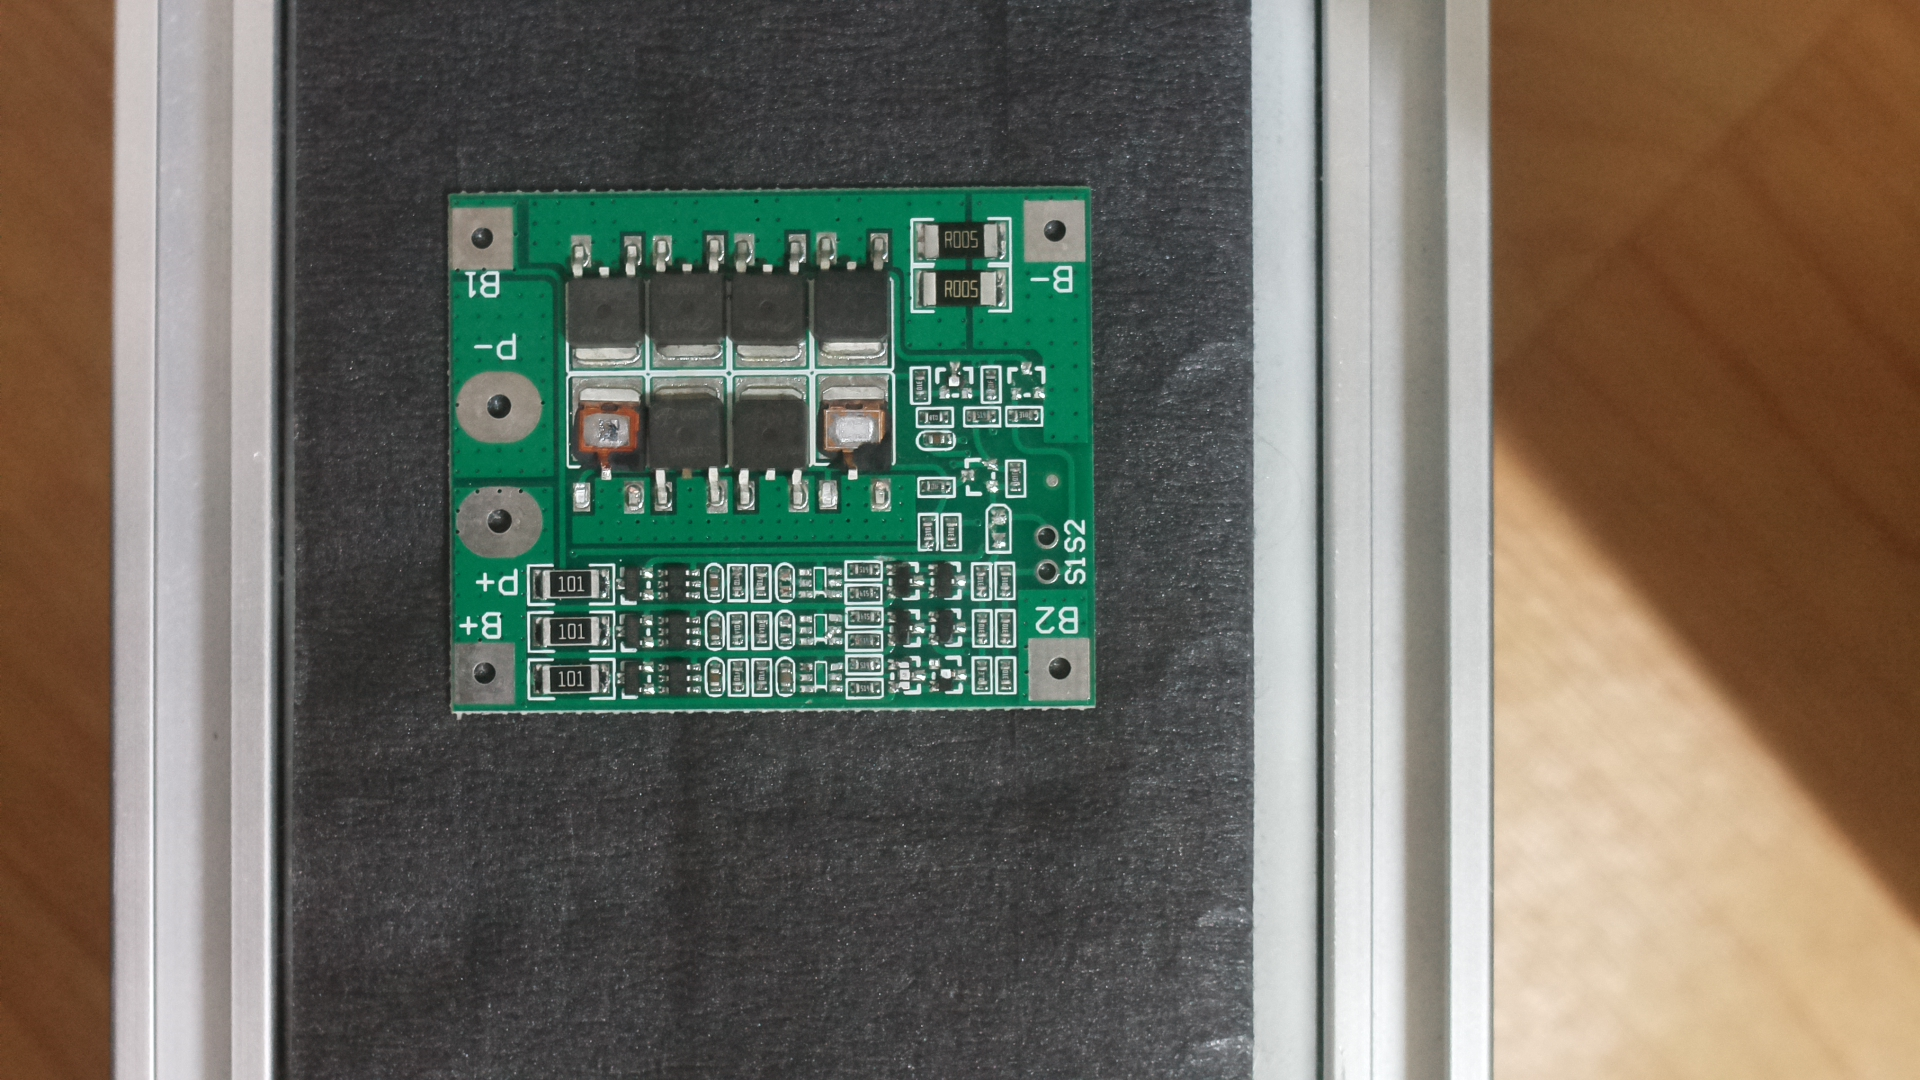C_Missing_part: (430, 154, 1113, 724)
